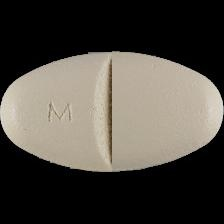0378-4775: (0, 0, 224, 224)
